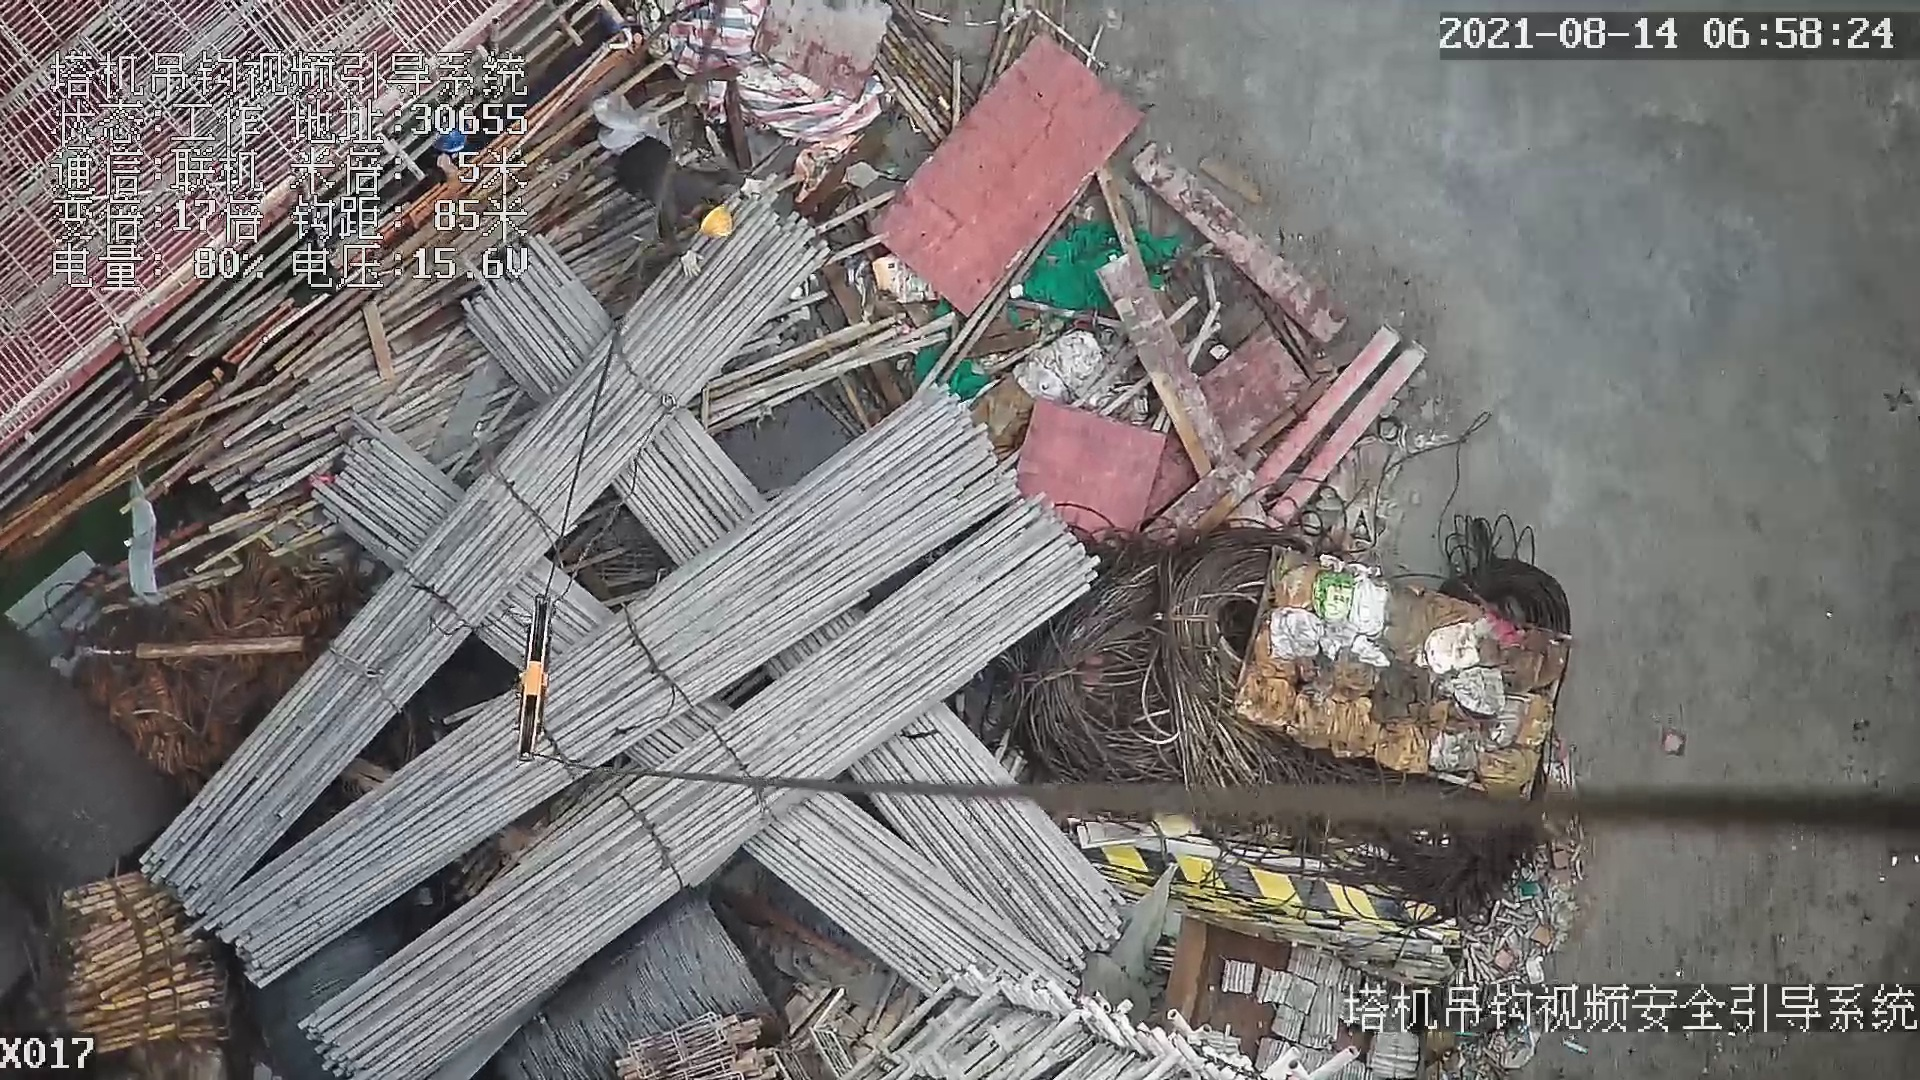helmet: (700, 204, 733, 238)
hook: (510, 590, 553, 767)
person: (622, 141, 770, 283)
rebar: (136, 199, 827, 916), (196, 383, 1019, 984), (300, 496, 1094, 1080), (746, 785, 1081, 999), (848, 700, 1123, 953)
scaffold: (58, 872, 239, 1056)
